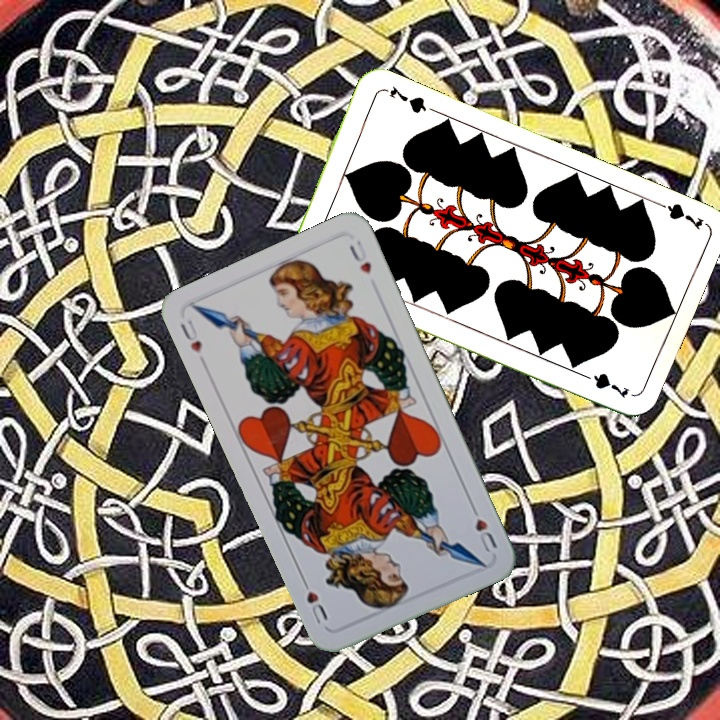G7: (649, 196, 706, 233)
HU: (466, 499, 500, 555), (176, 315, 204, 355)
